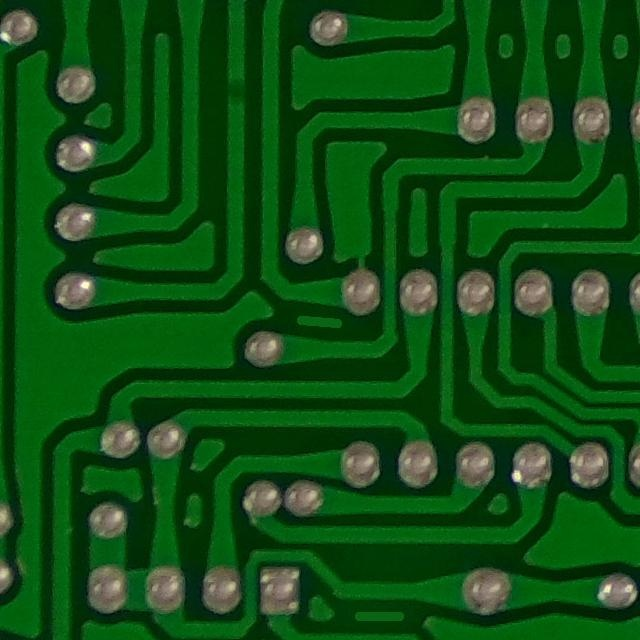spurious_copper: (291, 302, 350, 337)
